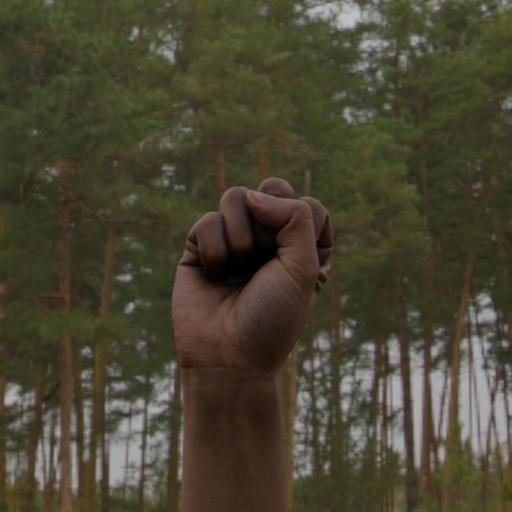S: (169, 172, 345, 372)
